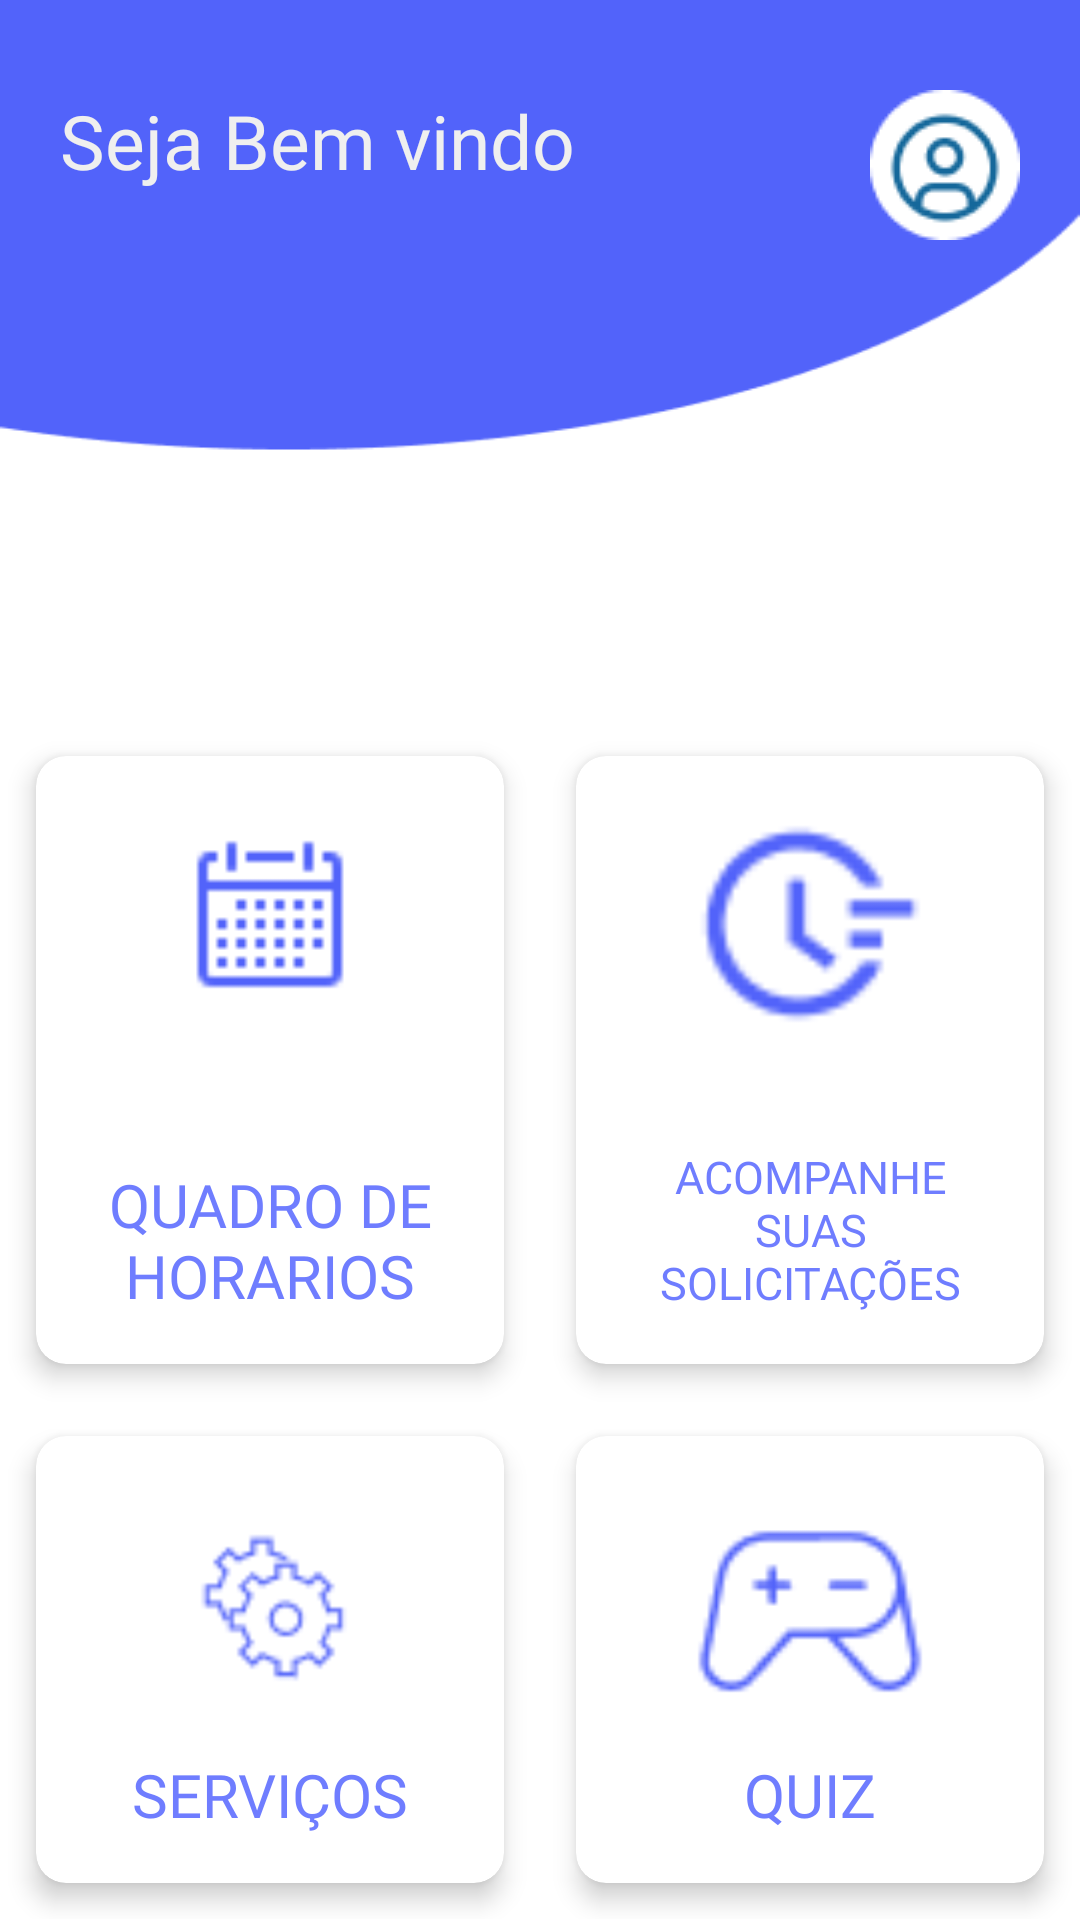

Where to tap for icons on this 1080w x 1920h app screen, as point (x, y):
game: point (810, 1611)
profile: point (945, 165)
servicos: point (273, 1607)
solicitacoes: point (811, 924)
